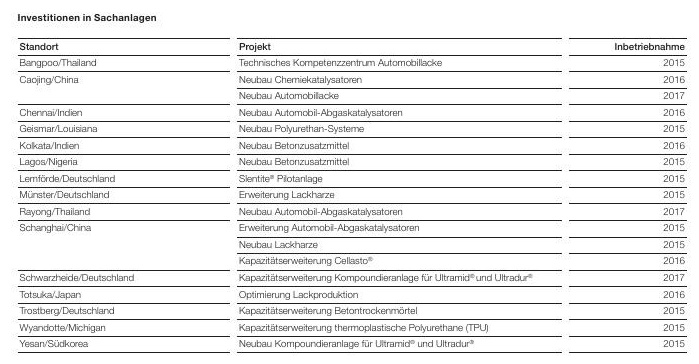table: (0, 0, 699, 364)
